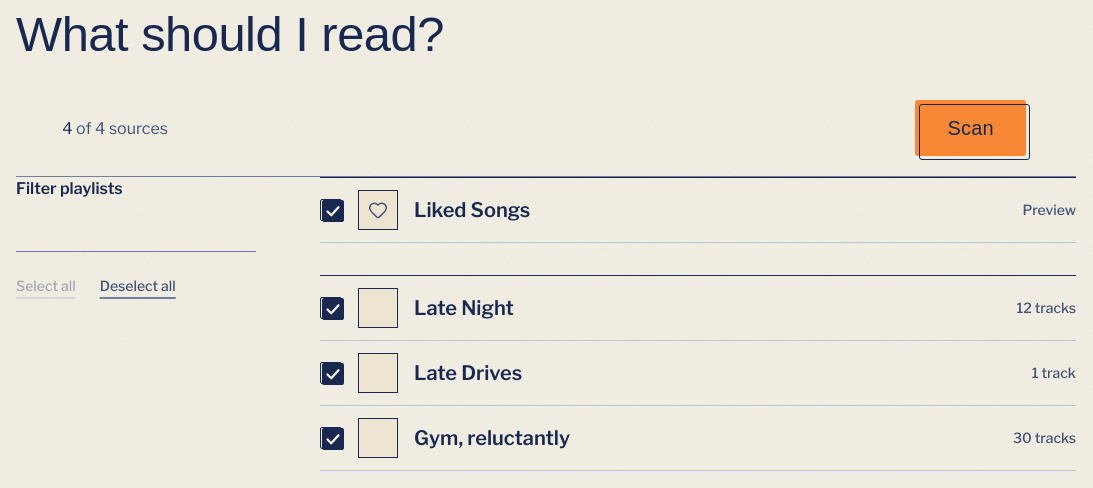
/scope filter and bulk choices › leaves hidden sources alone when acting on a filtered list
Type "late" into the search field.
click(136, 230); type("late")  # box [16,208,256,252]
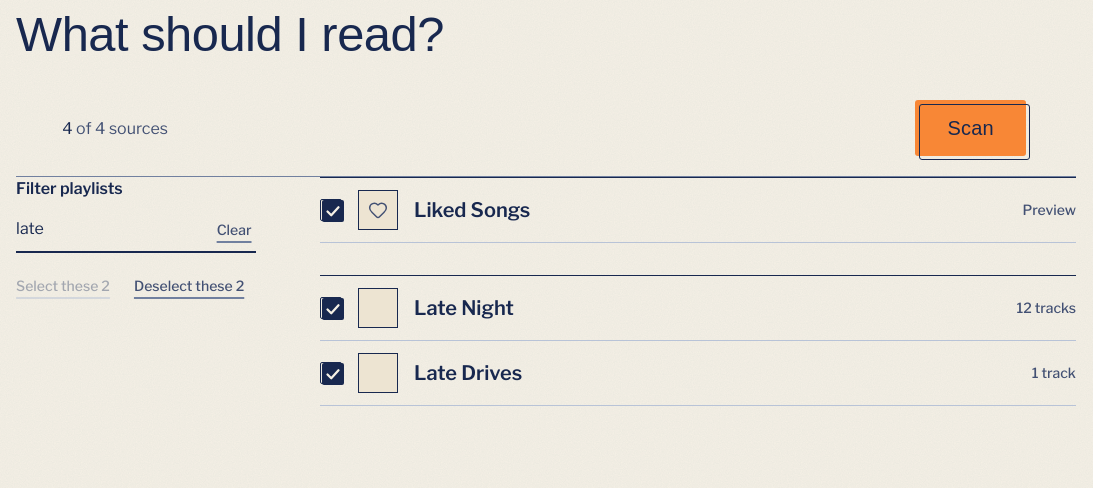
Click the button "Deselect these 2".
click(189, 286)  # box [134,264,244,308]
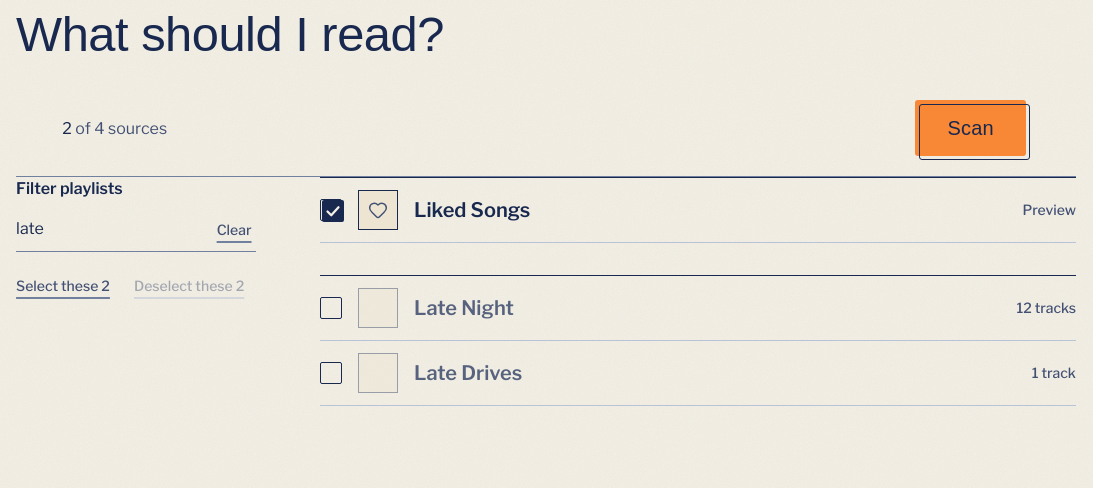
Expected: the checkbox labelled "Liked Songs" is checked, [320,190,530,230]
Result: the checkbox labelled "Late Night" is not checked at [320,288,514,328]
Result: the checkbox labelled "Late Drives" is not checked at [320,353,522,393]
Click the button with aria-label "Clear filter".
click(234, 230)  # box [212,208,256,252]
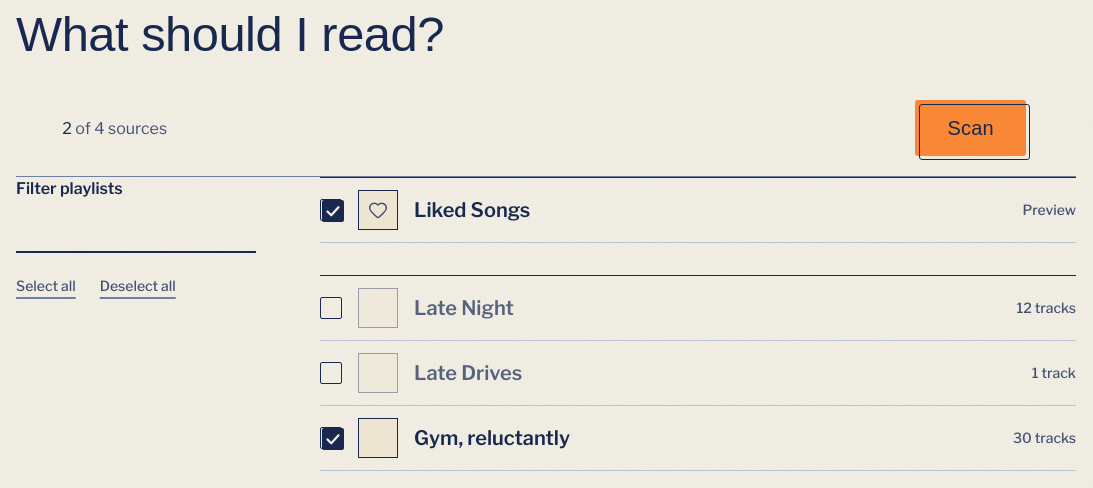
Result: the message reads "2 of 4 sources" at [62,119,167,138]
Result: the checkbox labelled "Gym, reluctantly" is checked at [320,418,570,458]
